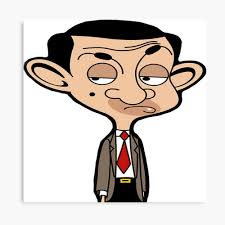mrbean: (25, 17, 206, 202)
